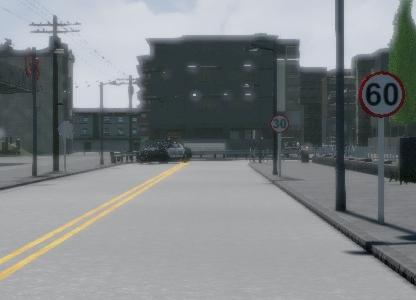Speed_60: (356, 65, 408, 118)
